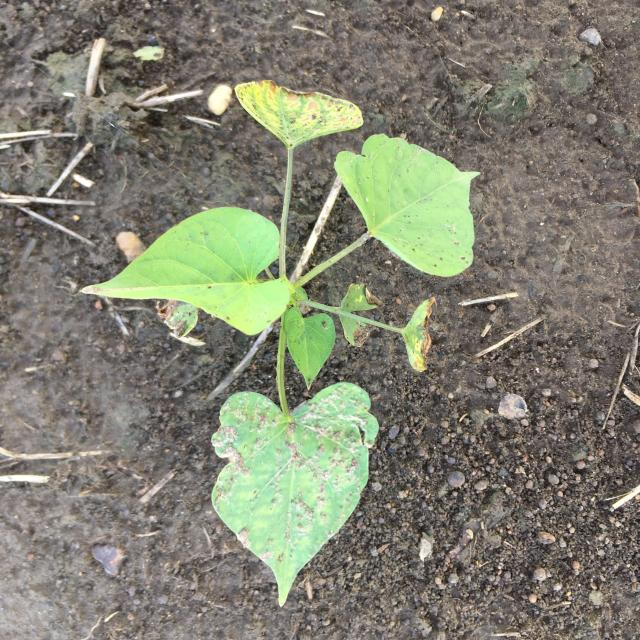MorningGlory: (83, 80, 480, 605)
